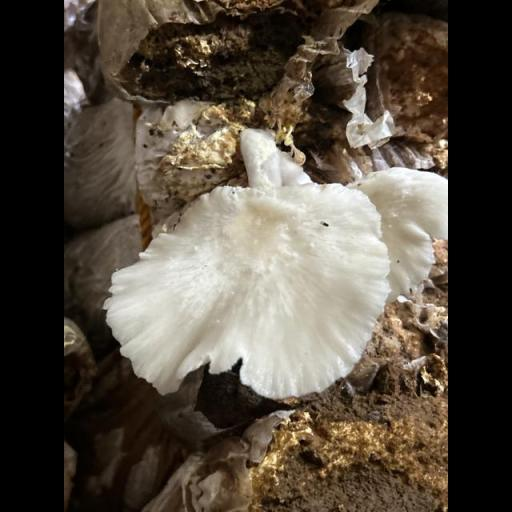White Oyster Mushroom: (99, 127, 450, 404)
